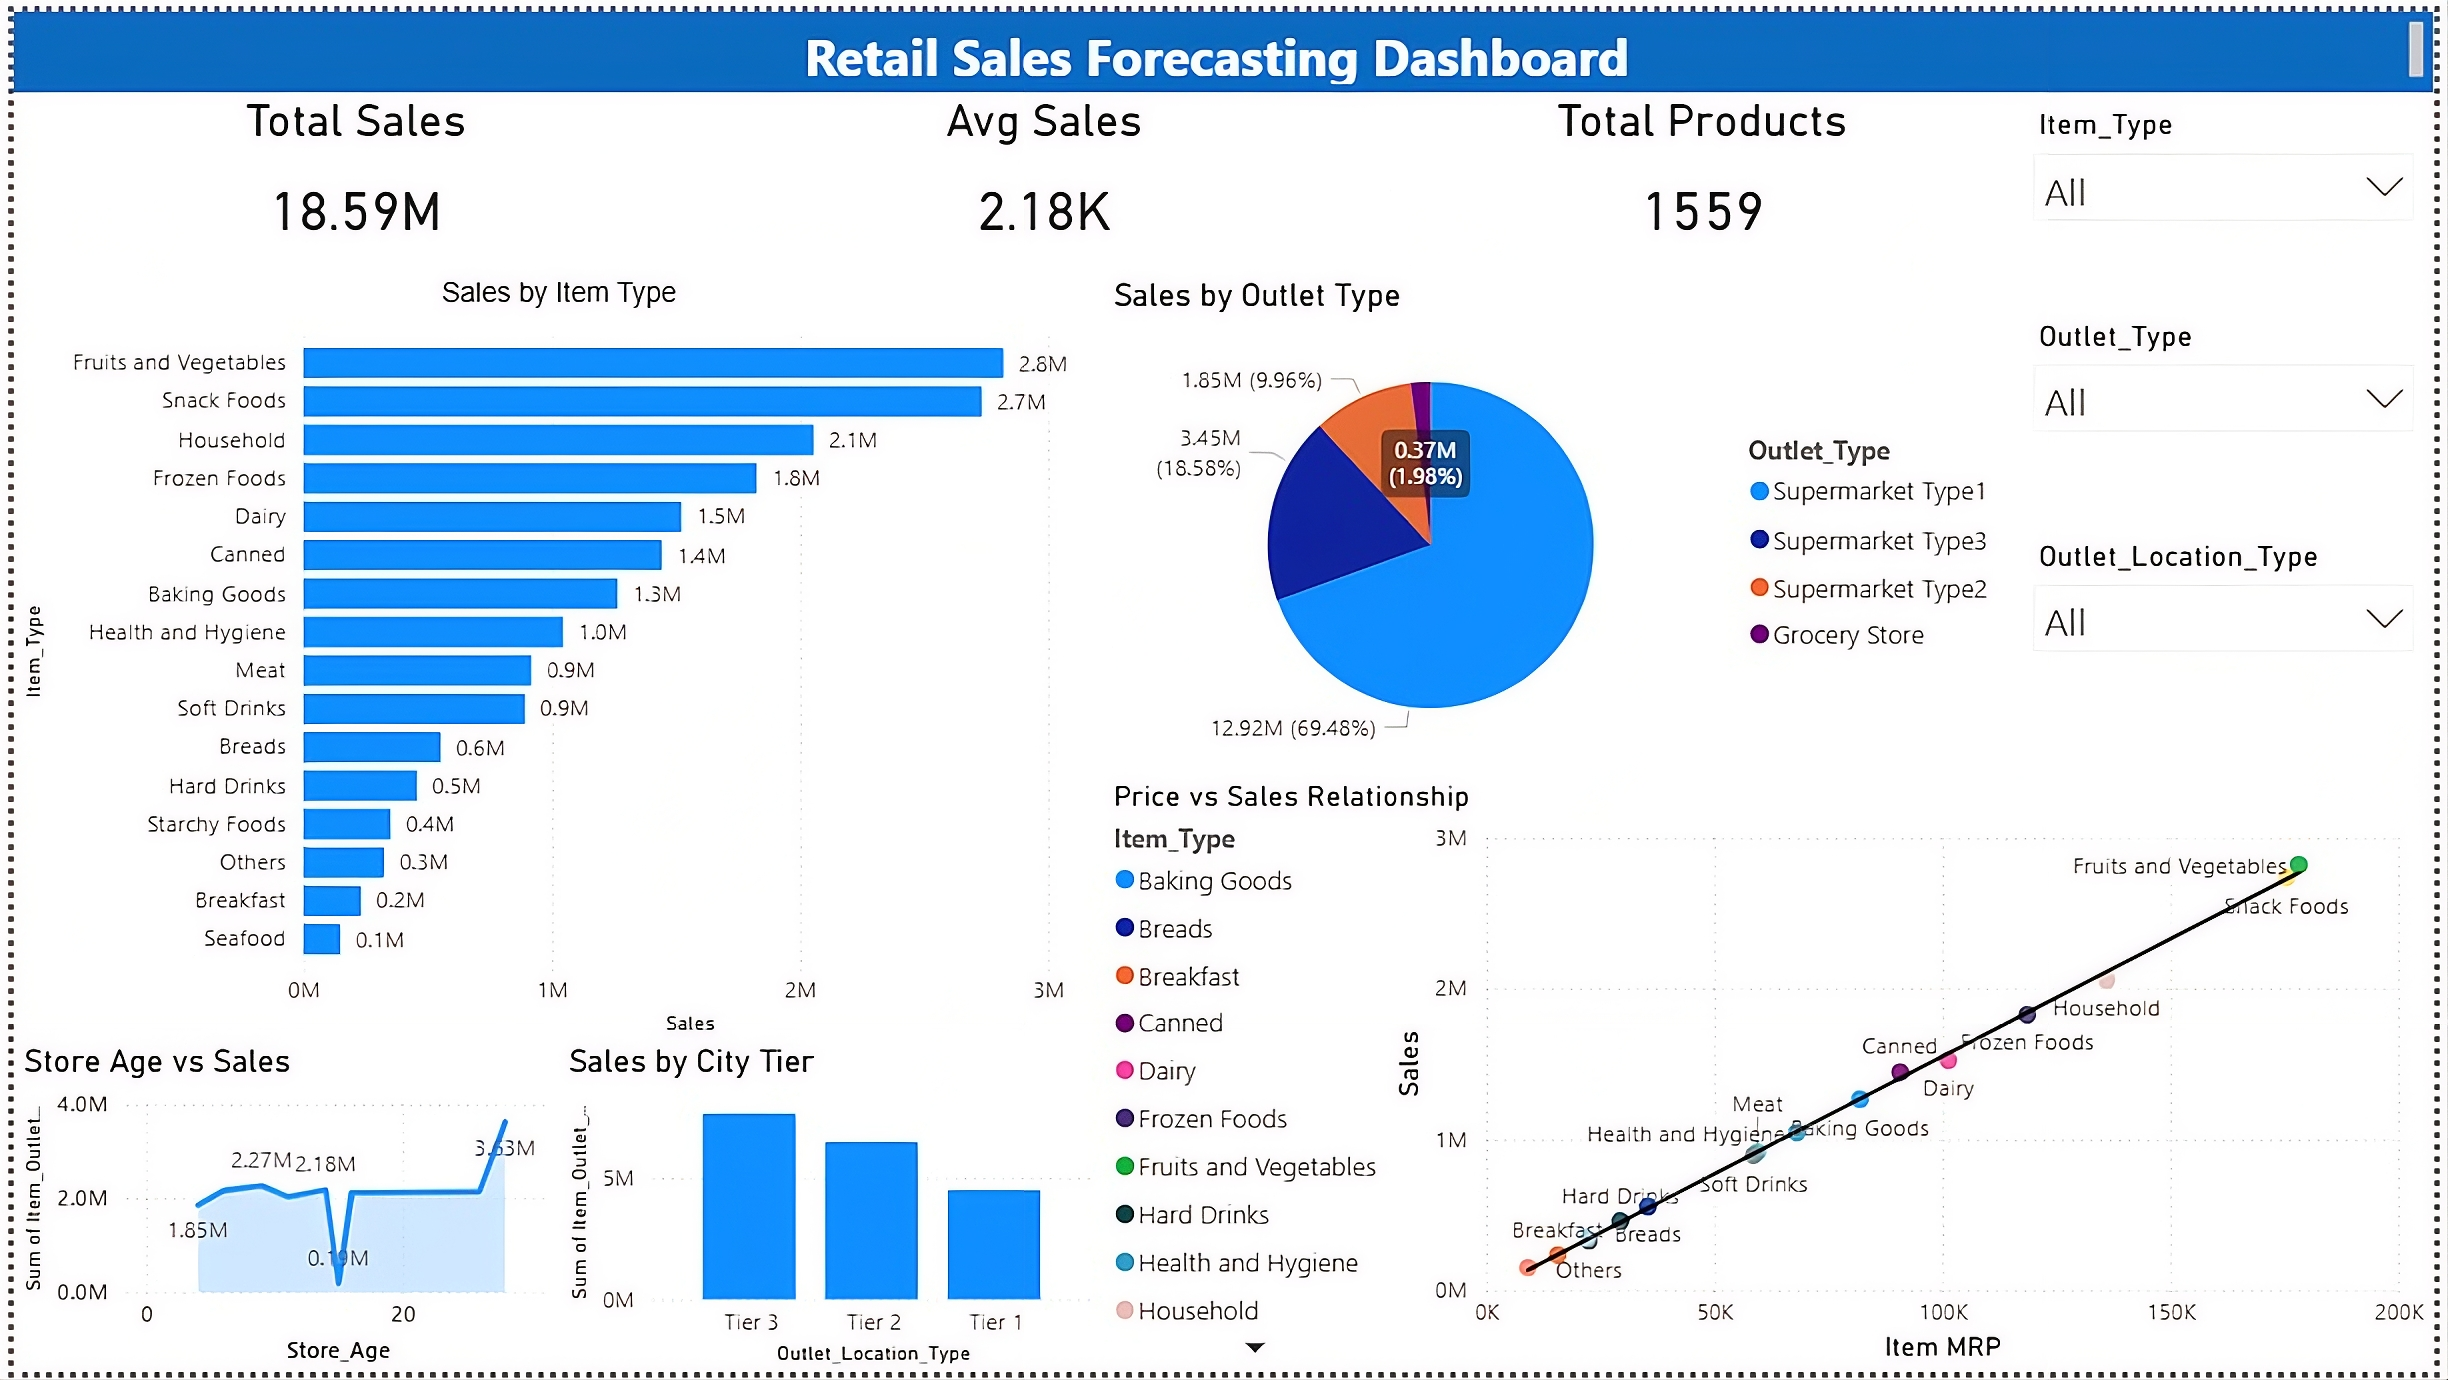

The dashboard page shown, as its layout file describes it:
{"tool":"powerbi","page":{"name":"Dashboard ","canvas":[1280,720],"ordinal":0},"visuals":[{"type":"clusteredBarChart","title":"Sales by Item Type","fields":{"Category":["retail_sales_dashboard_data.Item_Type"],"Y":["Sum(retail_sales_dashboard_data.Item_Outlet_Sales)"]},"box":[0,140,576.7,405],"z":0},{"type":"textbox","box":[0,0,1280,42.7],"z":1000},{"type":"card","title":"Total Sales Revenue","fields":{"Values":["Sum(retail_sales_dashboard_data.Item_Outlet_Sales)"]},"box":[0,43.3,361.7,96.7],"z":2000},{"type":"card","title":"Average Product Sales","fields":{"Values":["Avg(retail_sales_dashboard_data.Item_Outlet_Sales)"]},"box":[361.7,43.3,366.7,96.7],"z":3000},{"type":"card","title":"Total Products","fields":{"Values":["Count(retail_sales_dashboard_data.Item_Identifier)"]},"box":[728.3,43.3,330,96.7],"z":4000},{"type":"pieChart","title":"Sales by Outlet Type","fields":{"Category":["retail_sales_dashboard_data.Outlet_Type"],"Y":["Sum(retail_sales_dashboard_data.Item_Outlet_Sales)"]},"box":[576,140.4,481.8,264.9],"z":5000},{"type":"clusteredColumnChart","title":"Sales Distribution by City Tier","fields":{"Category":["retail_sales_dashboard_data.Outlet_Location_Type"],"Y":["Sum(retail_sales_dashboard_data.Item_Outlet_Sales)"]},"box":[288.3,545,288.3,175],"z":6000},{"type":"scatterChart","title":"Item Price vs Sales Relationship","fields":{"X":["Sum(retail_sales_dashboard_data.Item_MRP)"],"Y":["Sum(retail_sales_dashboard_data.Item_Outlet_Sales)"],"Series":["retail_sales_dashboard_data.Item_Type"]},"box":[576,405.3,704,314.7],"z":7000},{"type":"slicer","fields":{"Values":["retail_sales_dashboard_data.Item_Type"]},"box":[1058.3,43.3,221.7,195],"z":8000},{"type":"lineChart","title":"Store Age Impact on Sales","fields":{"Category":["retail_sales_dashboard_data.Store_Age"],"Y":["Sum(retail_sales_dashboard_data.Item_Outlet_Sales)"]},"box":[0,545,288.3,175],"z":9000},{"type":"slicer","fields":{"Values":["retail_sales_dashboard_data.Outlet_Type"]},"box":[1058.3,156.7,221.7,116.7],"z":10000},{"type":"slicer","fields":{"Values":["retail_sales_dashboard_data.Outlet_Location_Type"]},"box":[1058.3,273.3,221.7,131.7],"z":11000}]}

Visuals, with their boxes in screenshot pixels (x1, y1, x2, y2), scaled from the page's 1280x720 canvas onto the 2448x1380 screenshot:
"Sales by Item Type" clusteredBarChart: region(0, 268, 1103, 1045)
textbox: region(0, 0, 2447, 82)
"Total Sales Revenue" card: region(0, 83, 692, 268)
"Average Product Sales" card: region(692, 83, 1393, 268)
"Total Products" card: region(1393, 83, 2024, 268)
"Sales by Outlet Type" pieChart: region(1102, 269, 2023, 777)
"Sales Distribution by City Tier" clusteredColumnChart: region(551, 1045, 1103, 1379)
"Item Price vs Sales Relationship" scatterChart: region(1102, 777, 2447, 1379)
slicer - retail_sales_dashboard_data.Item_Type: region(2024, 83, 2447, 457)
"Store Age Impact on Sales" lineChart: region(0, 1045, 551, 1379)
slicer - retail_sales_dashboard_data.Outlet_Type: region(2024, 300, 2447, 524)
slicer - retail_sales_dashboard_data.Outlet_Location_Type: region(2024, 524, 2447, 776)
